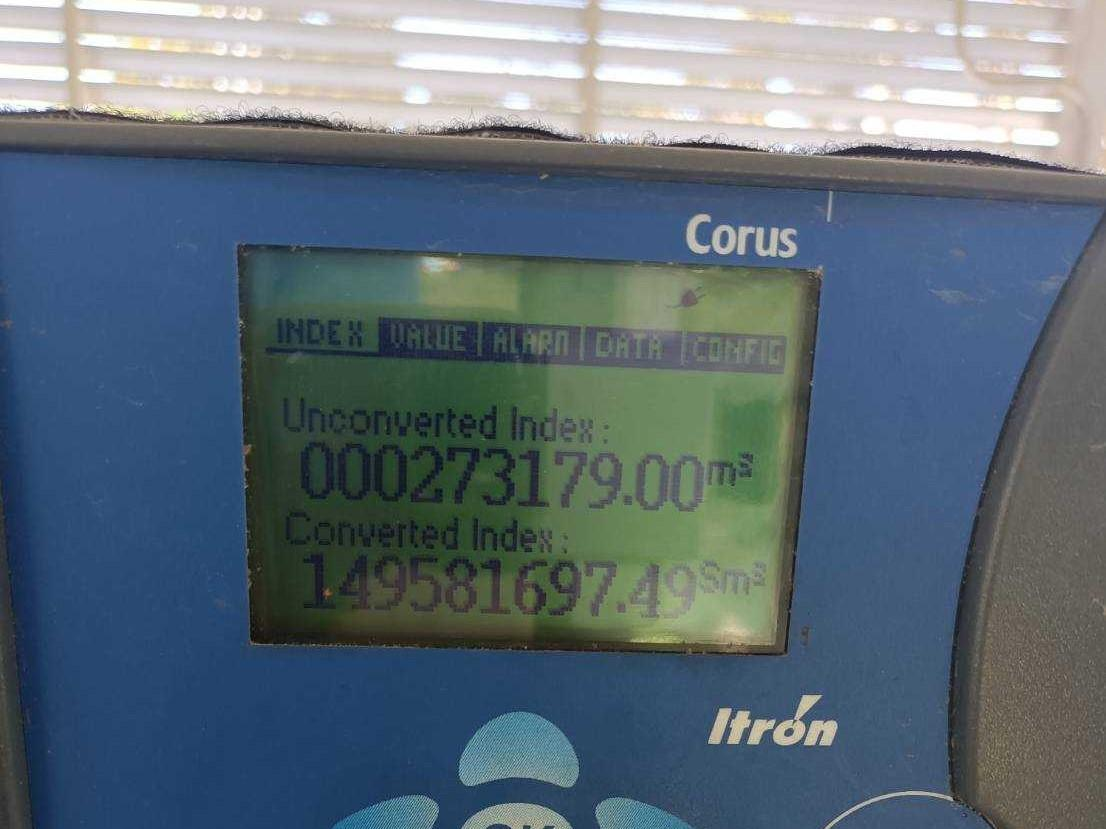digital_screen: (228, 247, 819, 656)
